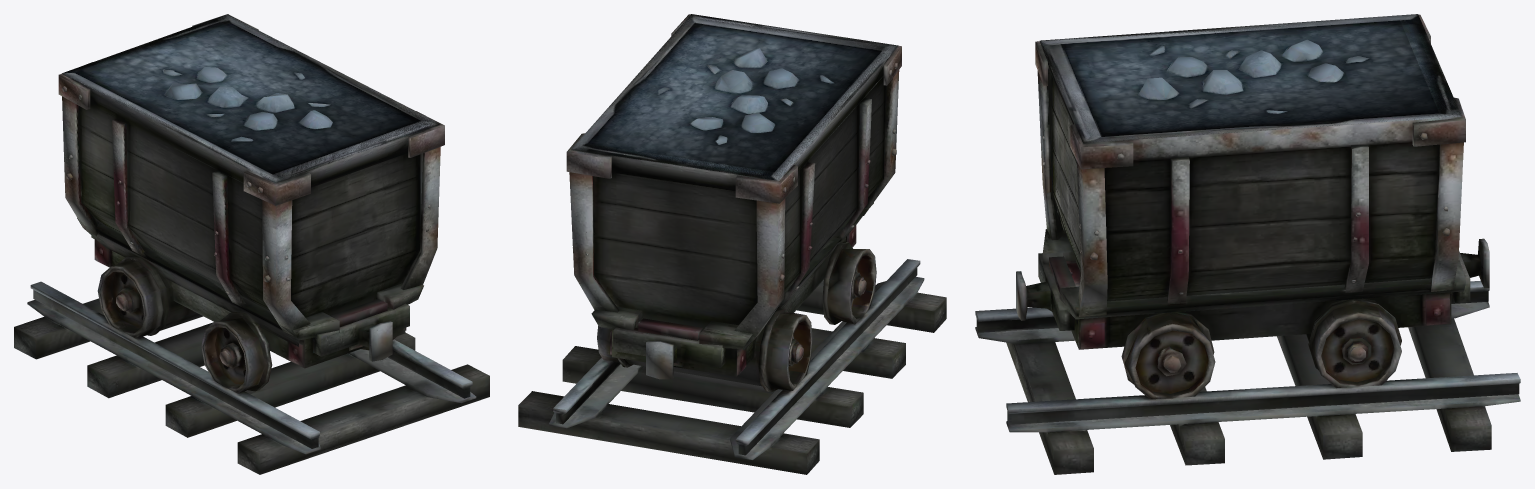
File: mine_cart.glb
3 renders of one model, left to right at view 1: azimuth 30°, elevation 25°; view 2: azimuth 150°, elevation 25°; view 3: azimuth 270°, elevation 25°, orthographic. The views are drawn at different scales.
Visible parts, largest first — view 1: model; view 2: model; view 3: model.
Boxes of the visible parts, x1,y1,x2,y2 form: model: [14, 14, 489, 474]; model: [518, 14, 946, 474]; model: [975, 14, 1520, 474].
Bounding box in the file's own units: 1.13 × 1 × 1.53.
1 material, 1 textured.
